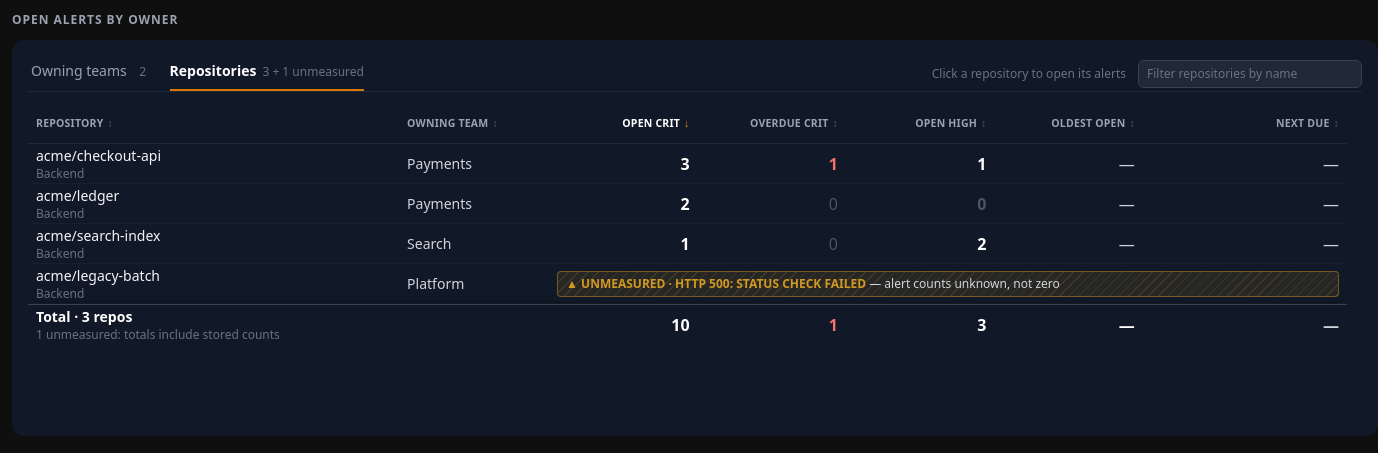
name filter › narrows the rows by name and the footer reads "Matching"
Step 1. Type "ledger" into the search field labelled "Filter repositories by name" → (1250, 74), box [1138,60,1362,88]
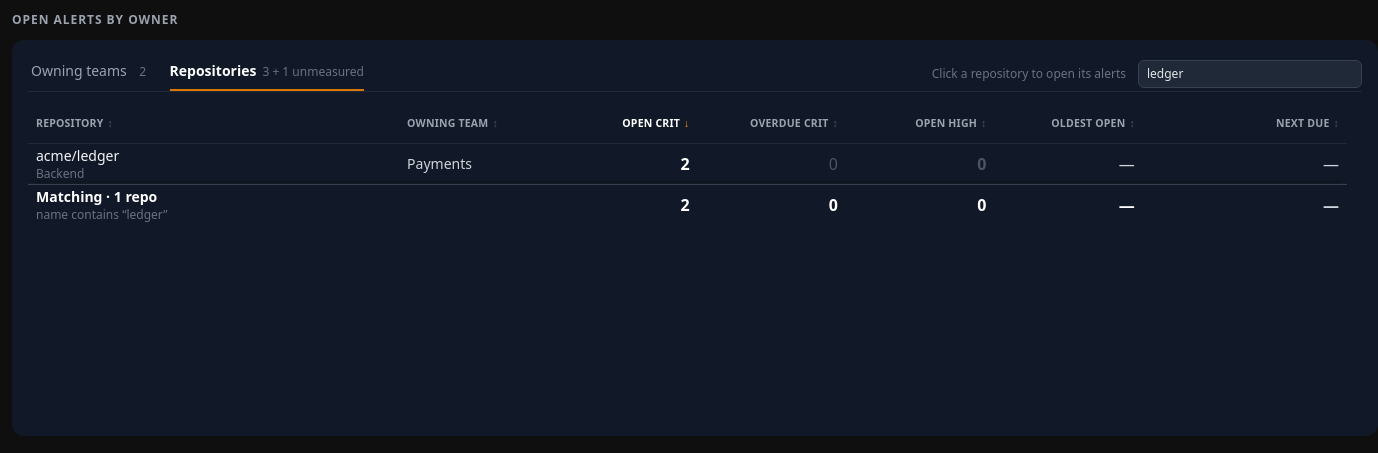
Check: the text "Matching · 1 repo" is shown, box [36,187,157,206]
